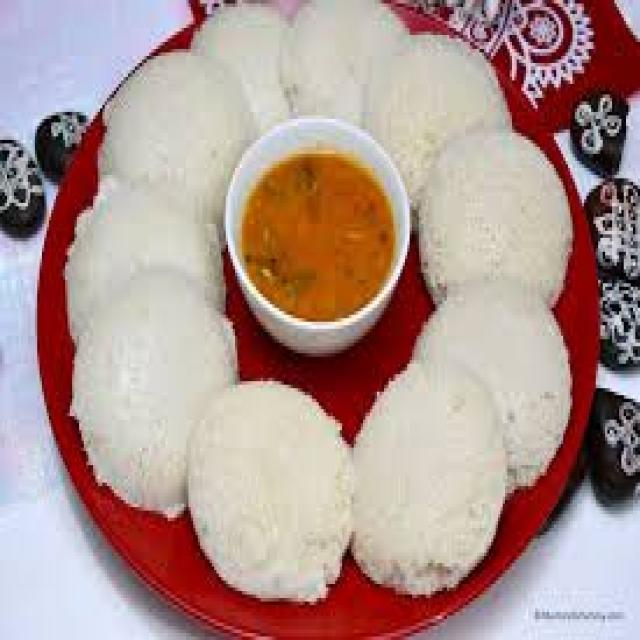Wet Waste: (67, 269, 256, 521), (335, 342, 500, 588), (398, 276, 575, 497), (184, 374, 349, 602), (91, 42, 265, 248), (61, 175, 232, 364), (412, 136, 582, 312), (377, 32, 505, 200), (183, 0, 314, 164), (296, 0, 402, 154)
